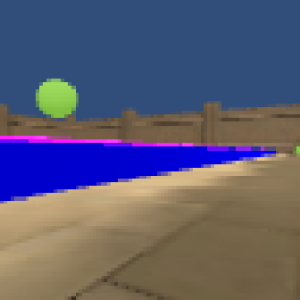goodGoal: (35, 78, 79, 119), (295, 144, 300, 157)
platform: (1, 148, 272, 200)
ramp: (1, 133, 199, 150)
